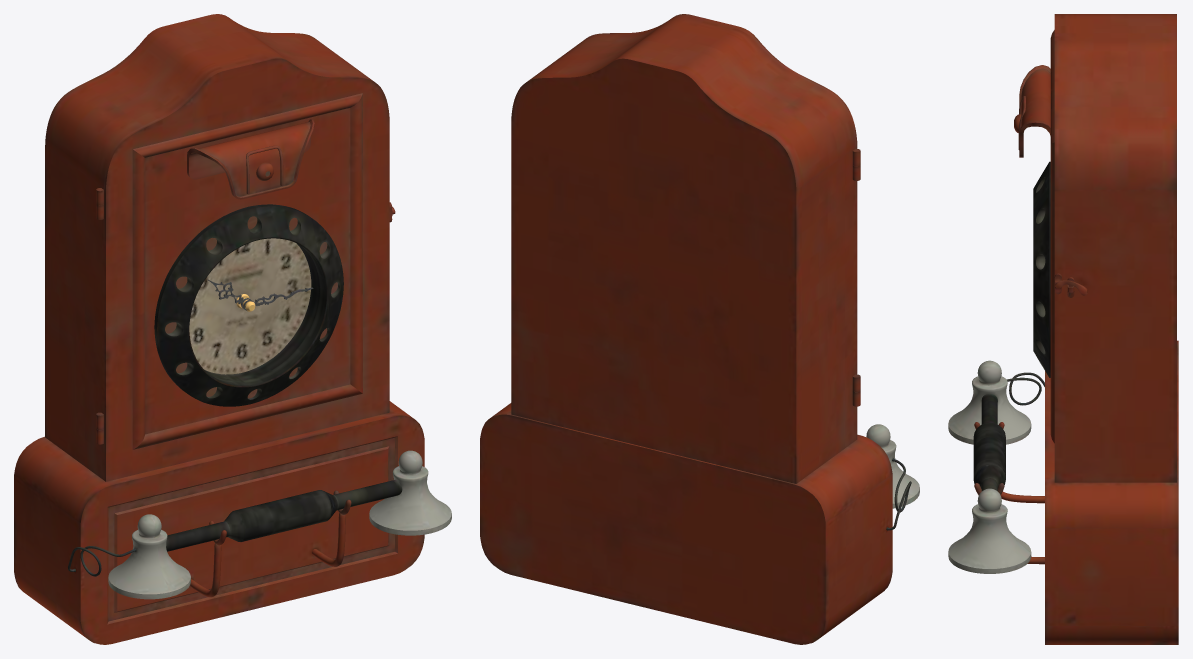
The model's file is vintage_telephone_wall_clock.gltf.
3 renders of one model, left to right at view 1: azimuth 30°, elevation 25°; view 2: azimuth 150°, elevation 25°; view 3: azimuth 270°, elevation 25°, orthographic.
Parts seen in each view (by area): view 1: vintage_telephone_wall_clock; view 2: vintage_telephone_wall_clock; view 3: vintage_telephone_wall_clock.
Boxes of the visible parts, bbox=[...] form: vintage_telephone_wall_clock: bbox=[14, 14, 451, 644]; vintage_telephone_wall_clock: bbox=[480, 14, 919, 644]; vintage_telephone_wall_clock: bbox=[948, 14, 1178, 644].
Size of the model in its own units: 0.3428 by 0.5012 by 0.1926.
Materials: 1 (1 with a texture image).
